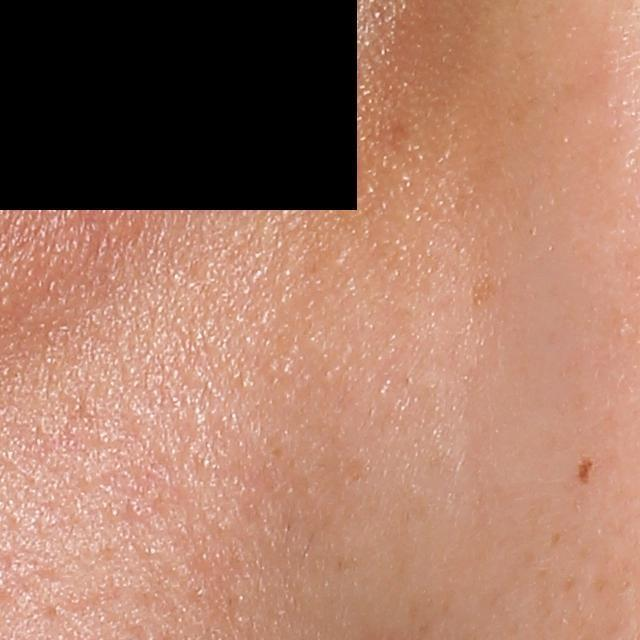melasma: (470, 275, 504, 309)
nevus: (575, 458, 592, 483)
